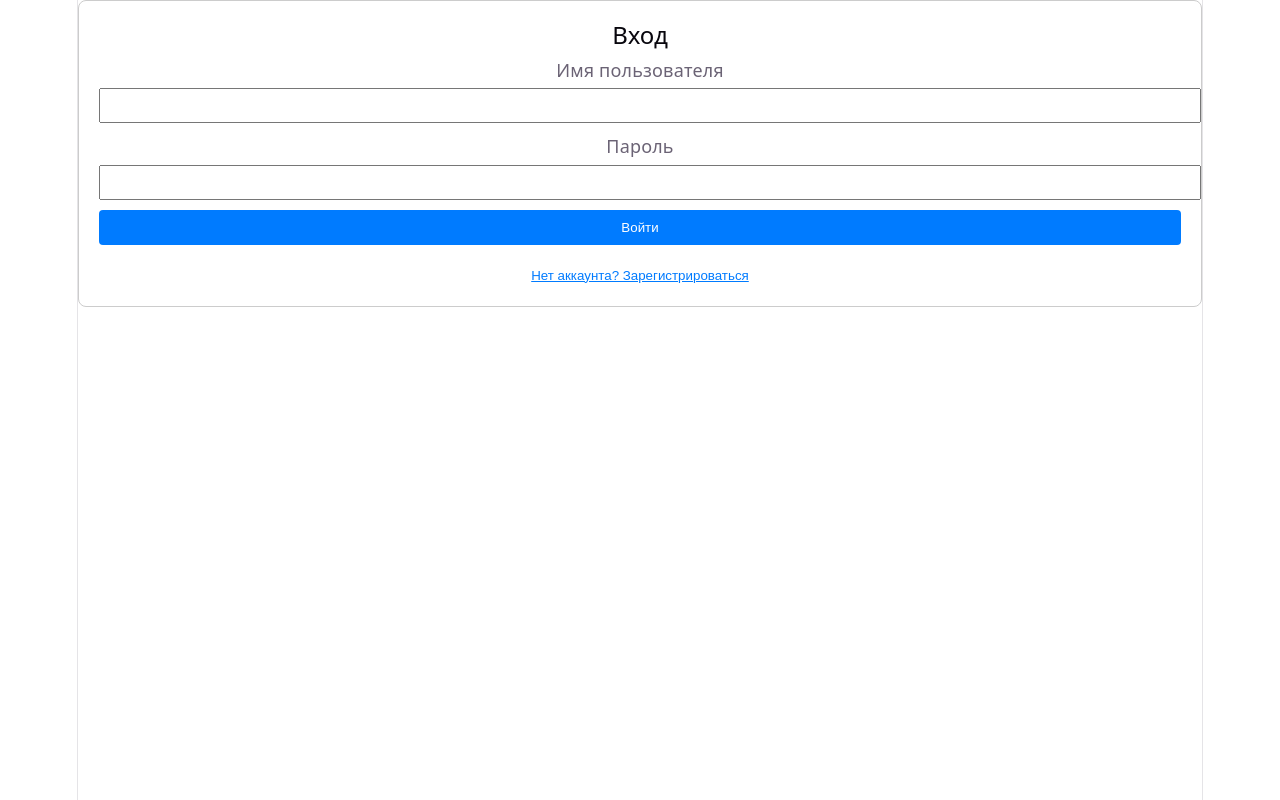
Test: Auth Component › shows validation errors for short username/password
Step 1. Type "us" into the field with test id "username-input" → {"x": 650, "y": 106}, box [99,88,1201,123]
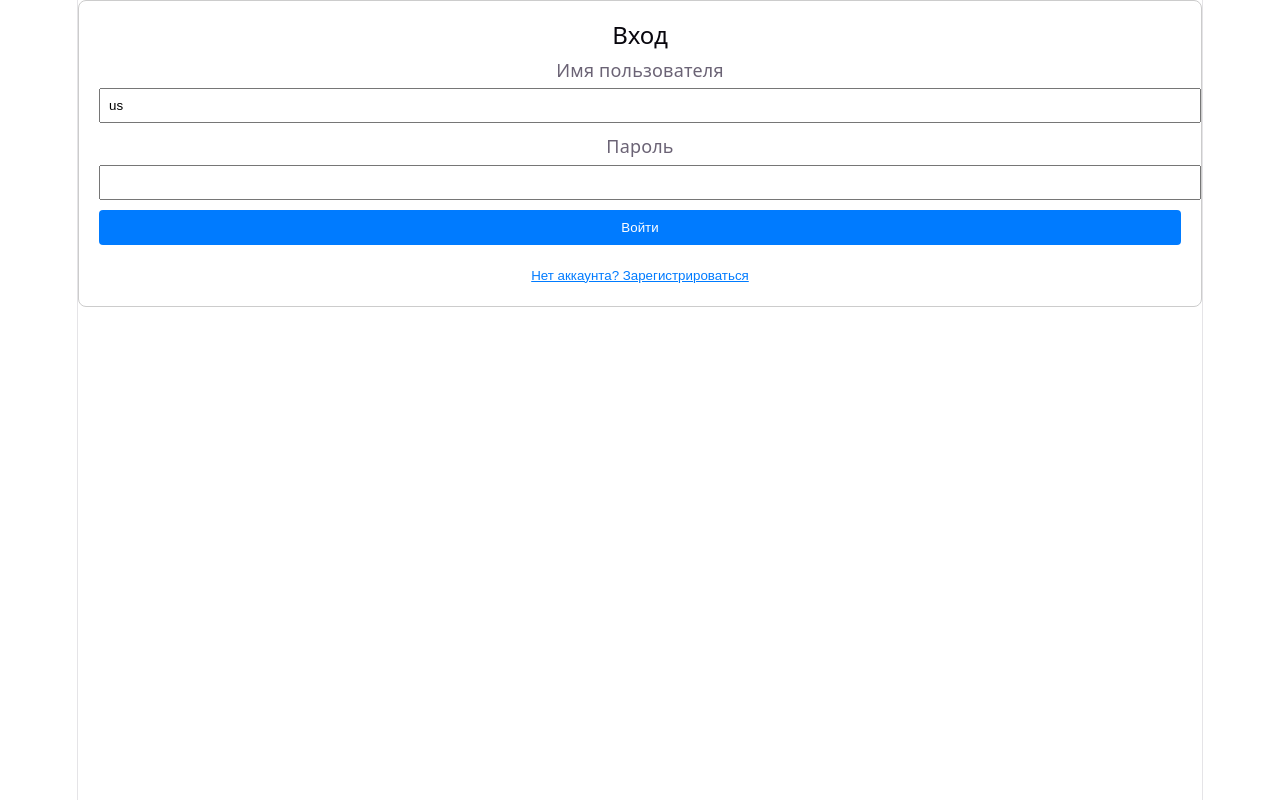
Step 2. Type "123" into the password field with test id "password-input" → {"x": 650, "y": 182}, box [99,164,1201,200]
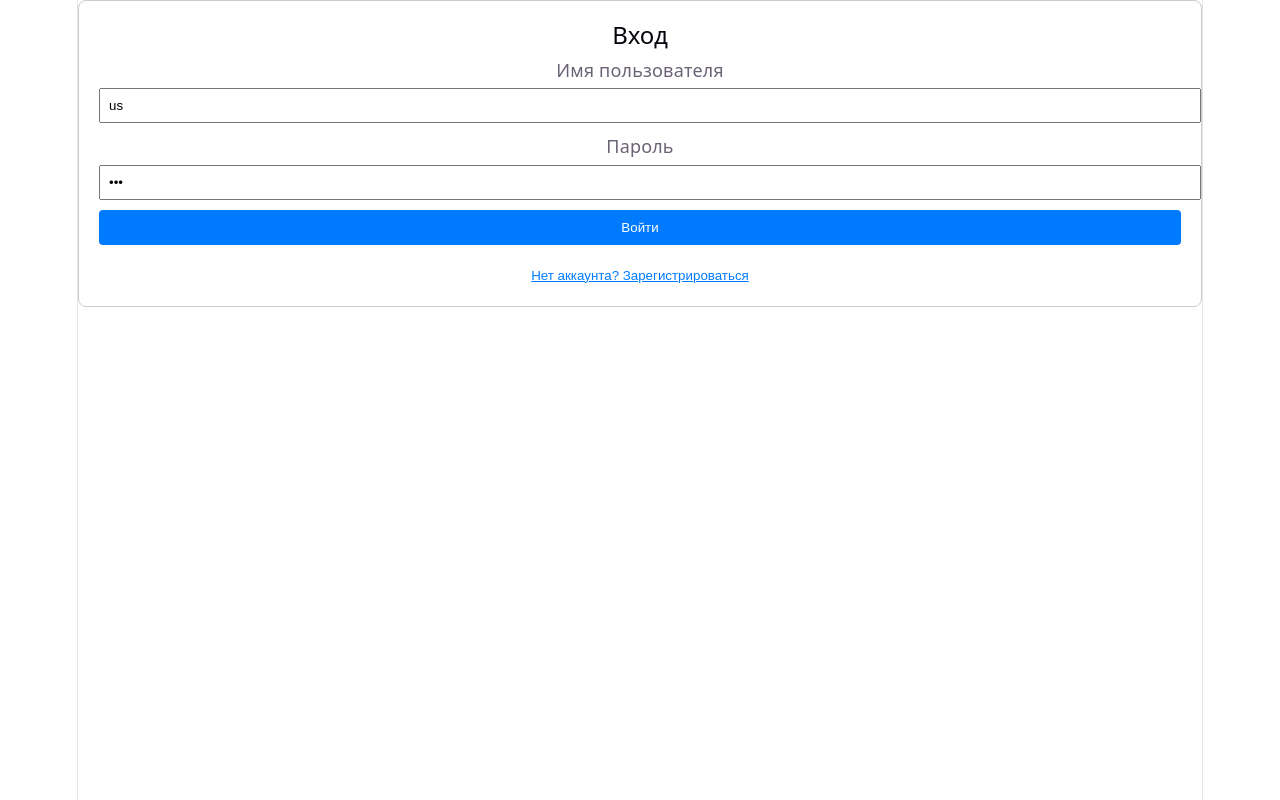
Step 3. Click the button with test id "submit-button" → {"x": 640, "y": 227}, box [99,210,1181,244]
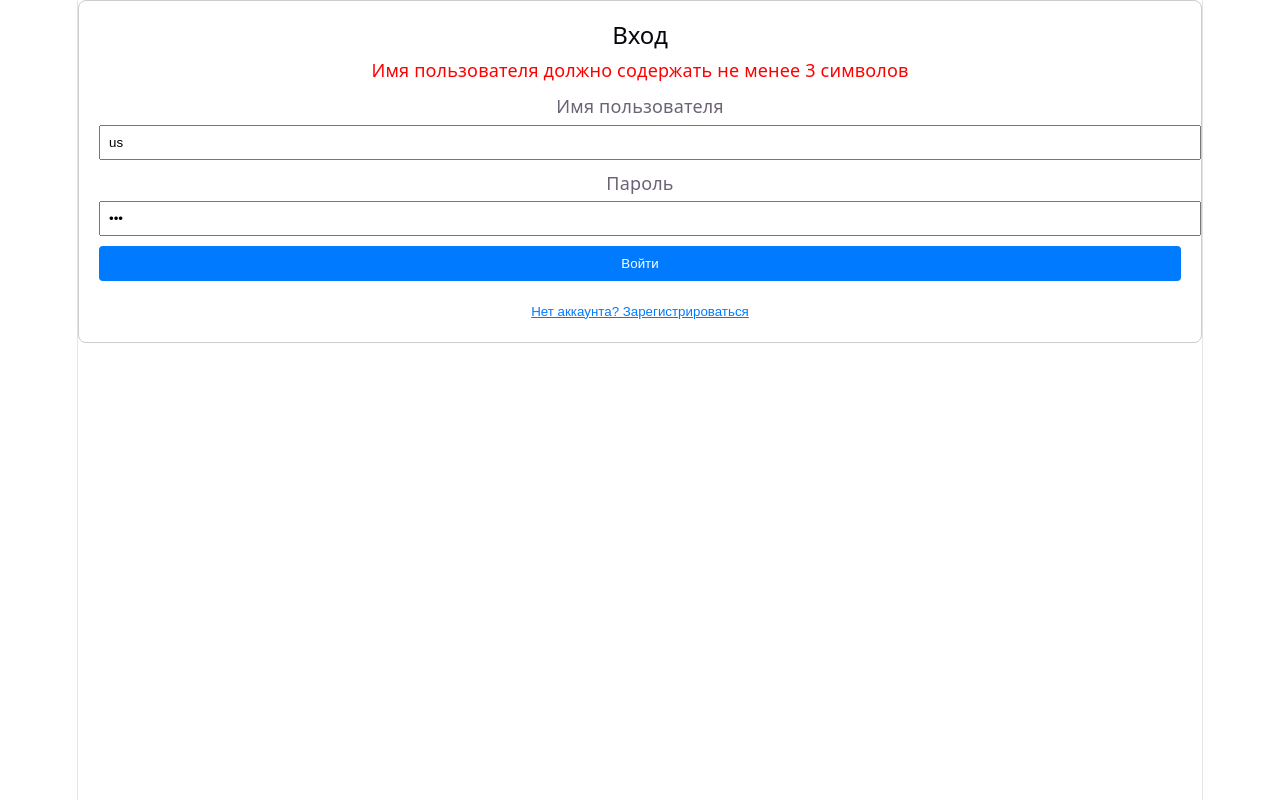
expect the text "Имя пользователя должно содержать не менее 3 символов" is shown: met, box [371,58,909,82]
Step 4. Replace the text in the field with test id "username-input" with "user" → {"x": 650, "y": 142}, box [99,124,1201,160]
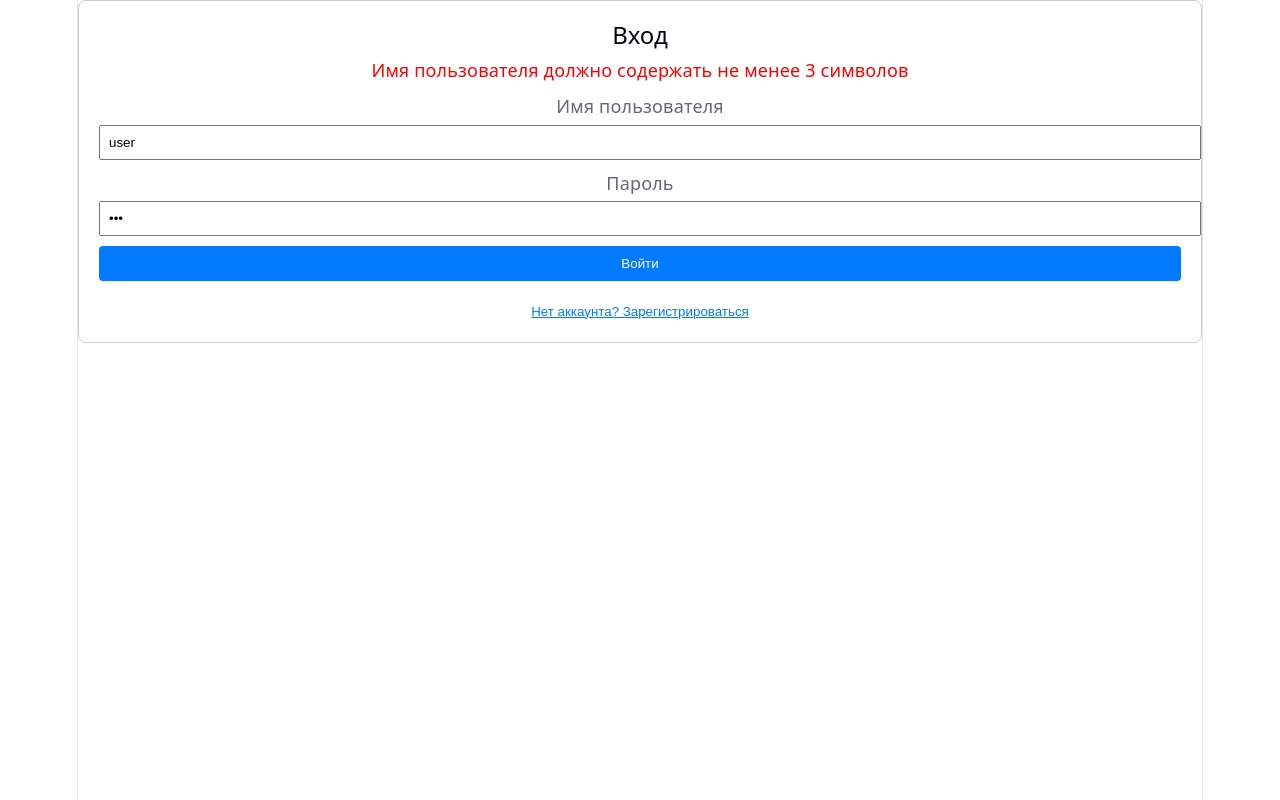
Step 5. Click the button with test id "submit-button" → {"x": 640, "y": 263}, box [99,246,1181,281]
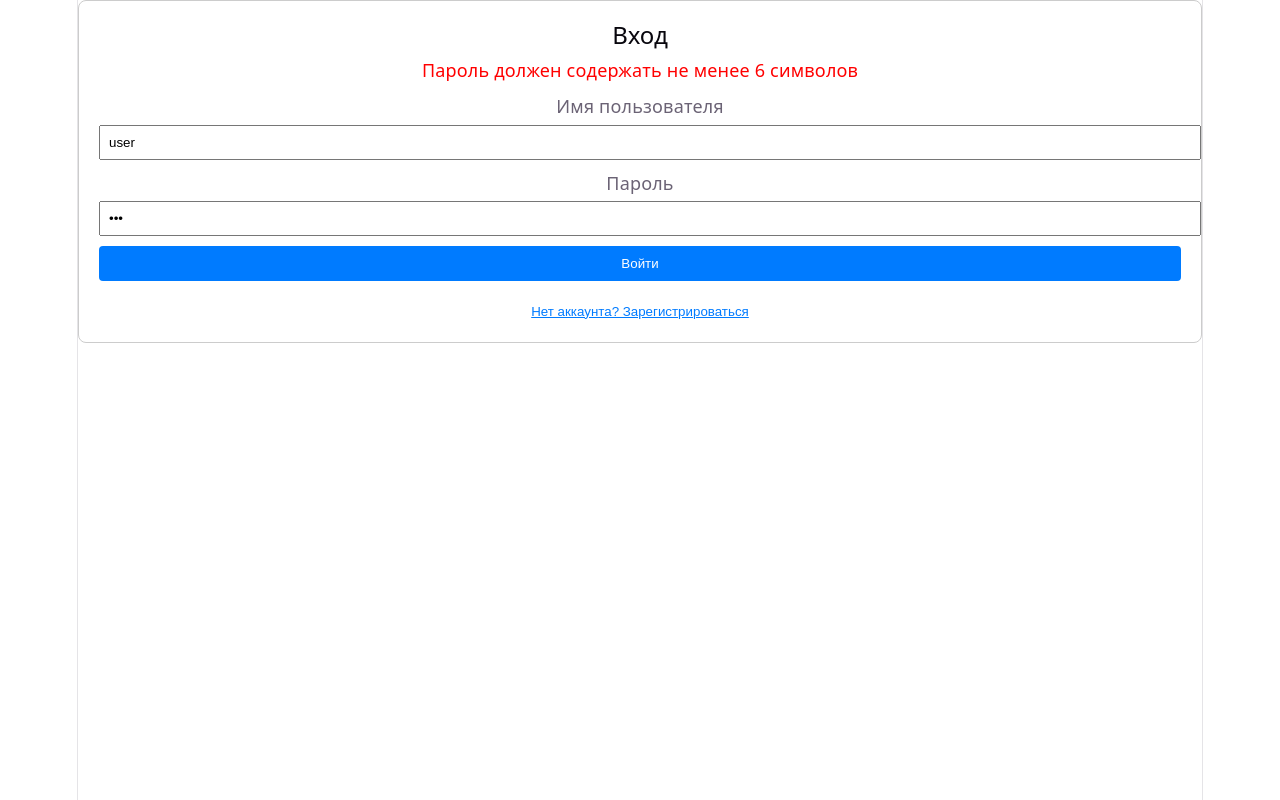
expect the text "Пароль должен содержать не менее 6 символов" is shown: met, box [422,58,858,82]
